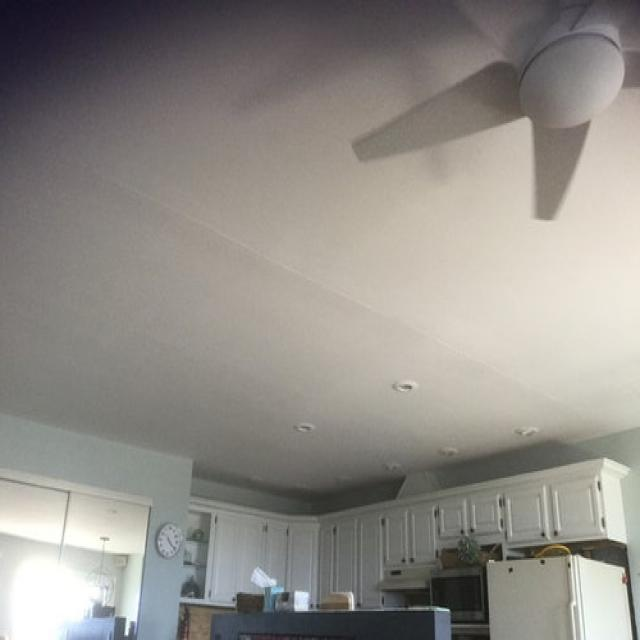leak: (71, 175, 579, 422)
